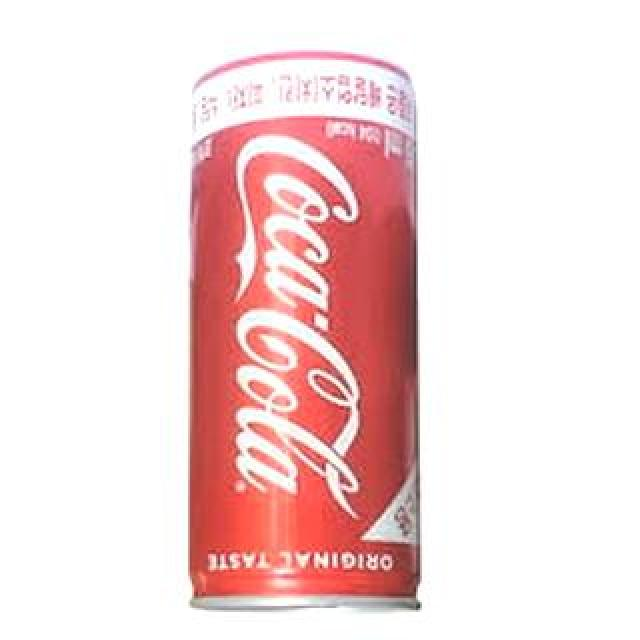Can: (175, 37, 435, 619)
